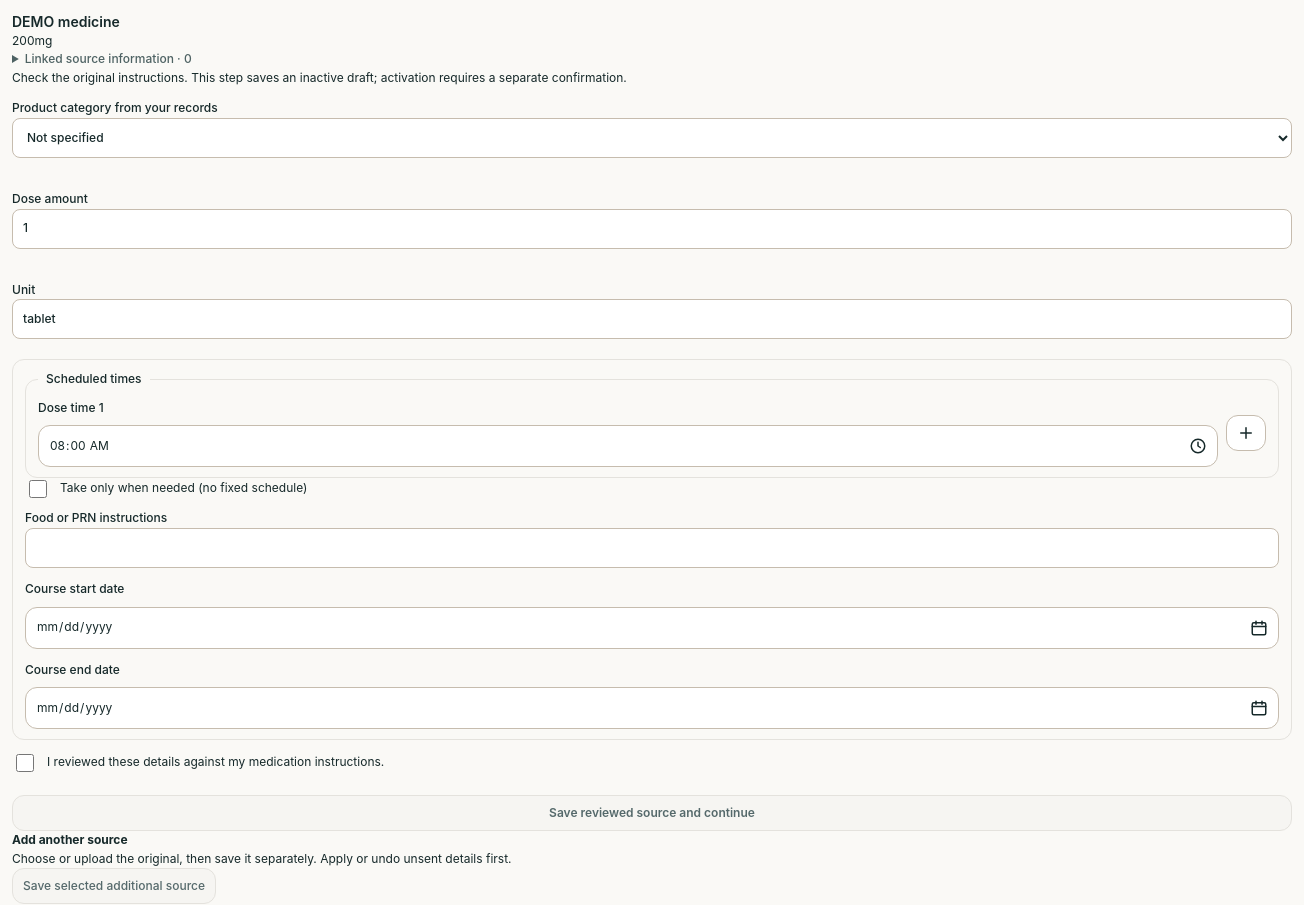
retains unsent form inputs when review fails and exposes retry with no activation
This screenshot has width=1304, height=905.
Expected: the heading "DEMO medicine" is shown, [12,13,120,30]
Replace the text in the number field labelled "Dose amount" with "2" at (652, 229), box [12,209,1292,249]
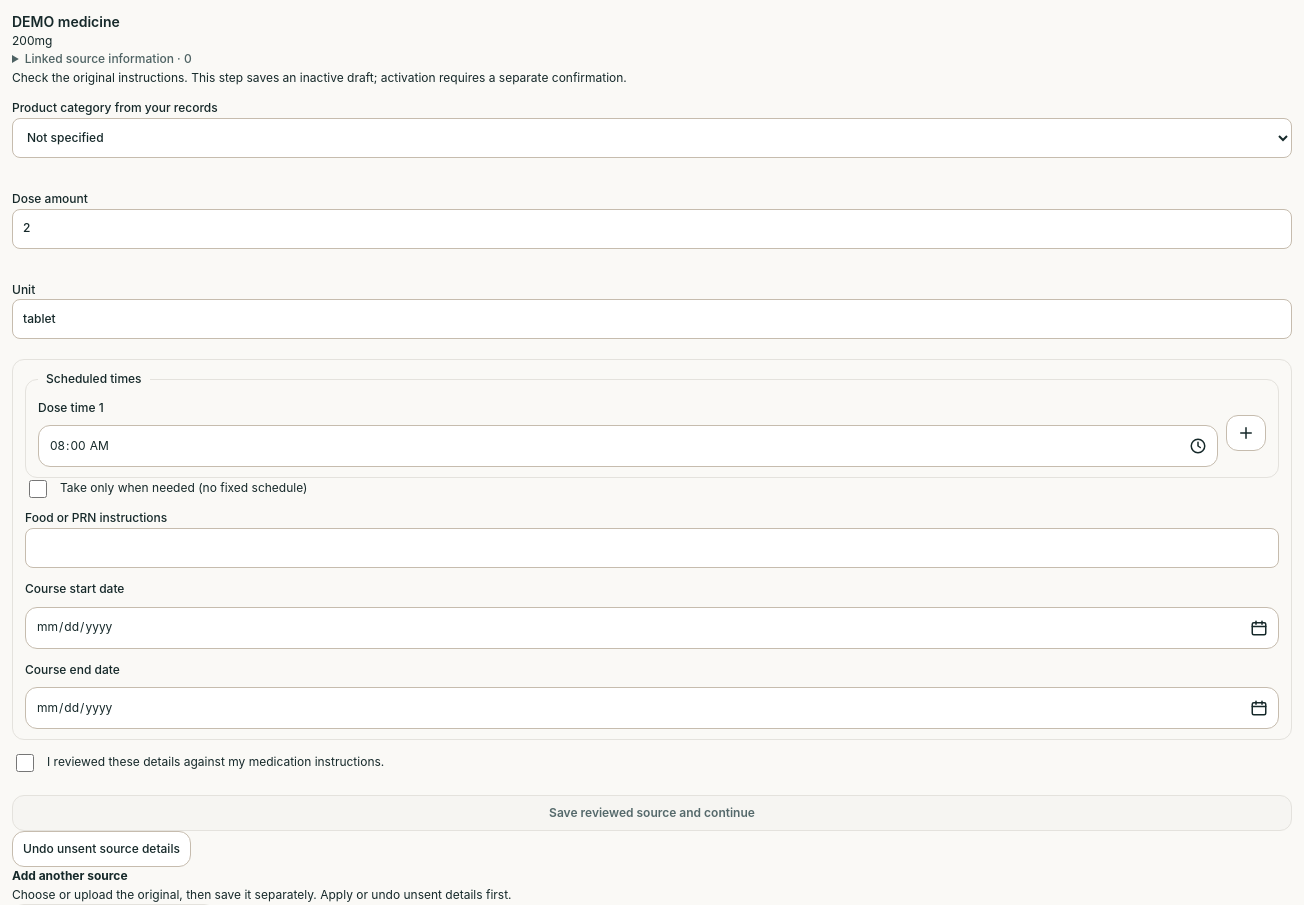
Click the checkbox labelled "I reviewed these details against my medication instructions." at (25, 763), box [16,754,34,772]
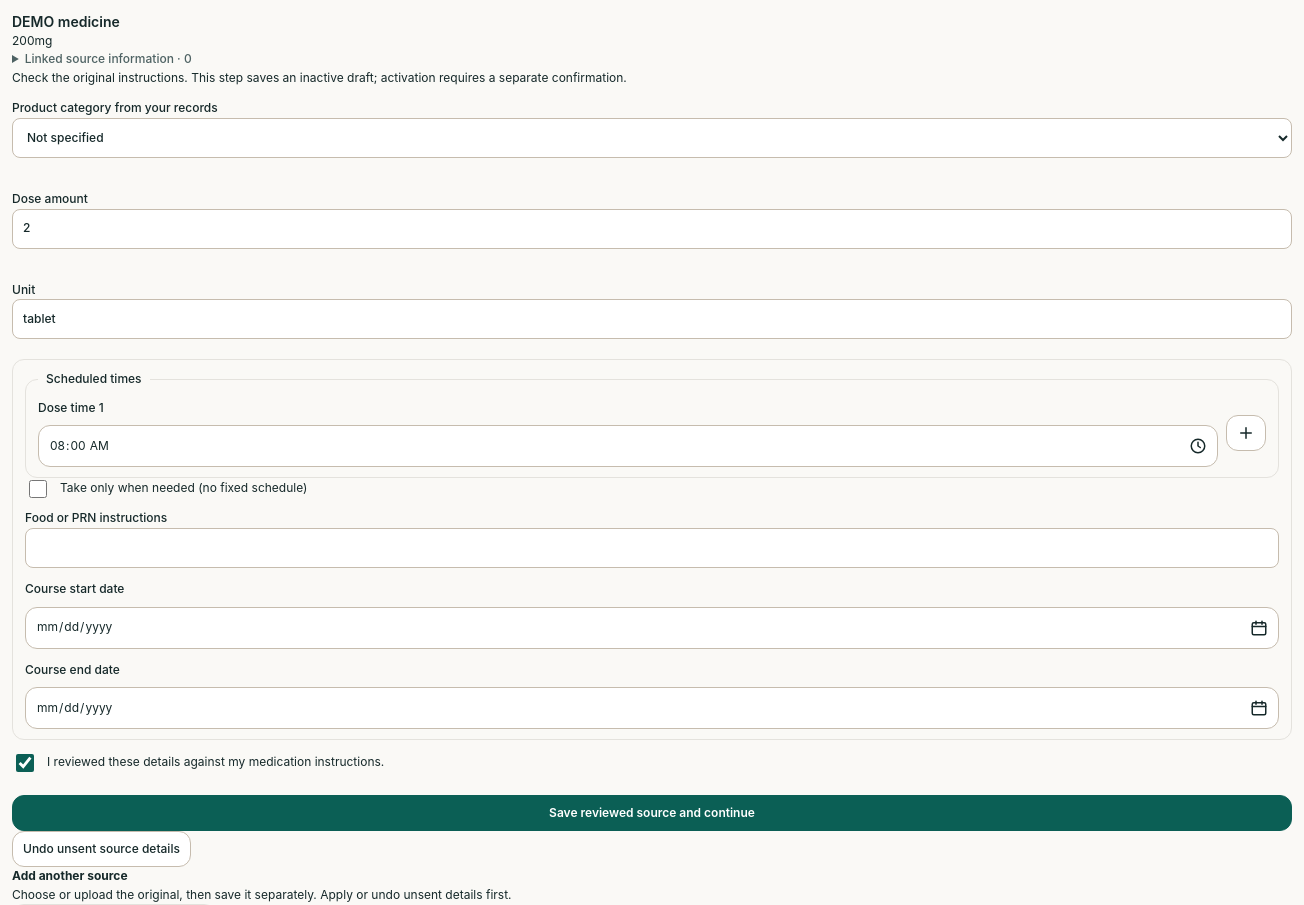
Click the button "Save reviewed source and continue" at (652, 813), box [12,795,1292,831]
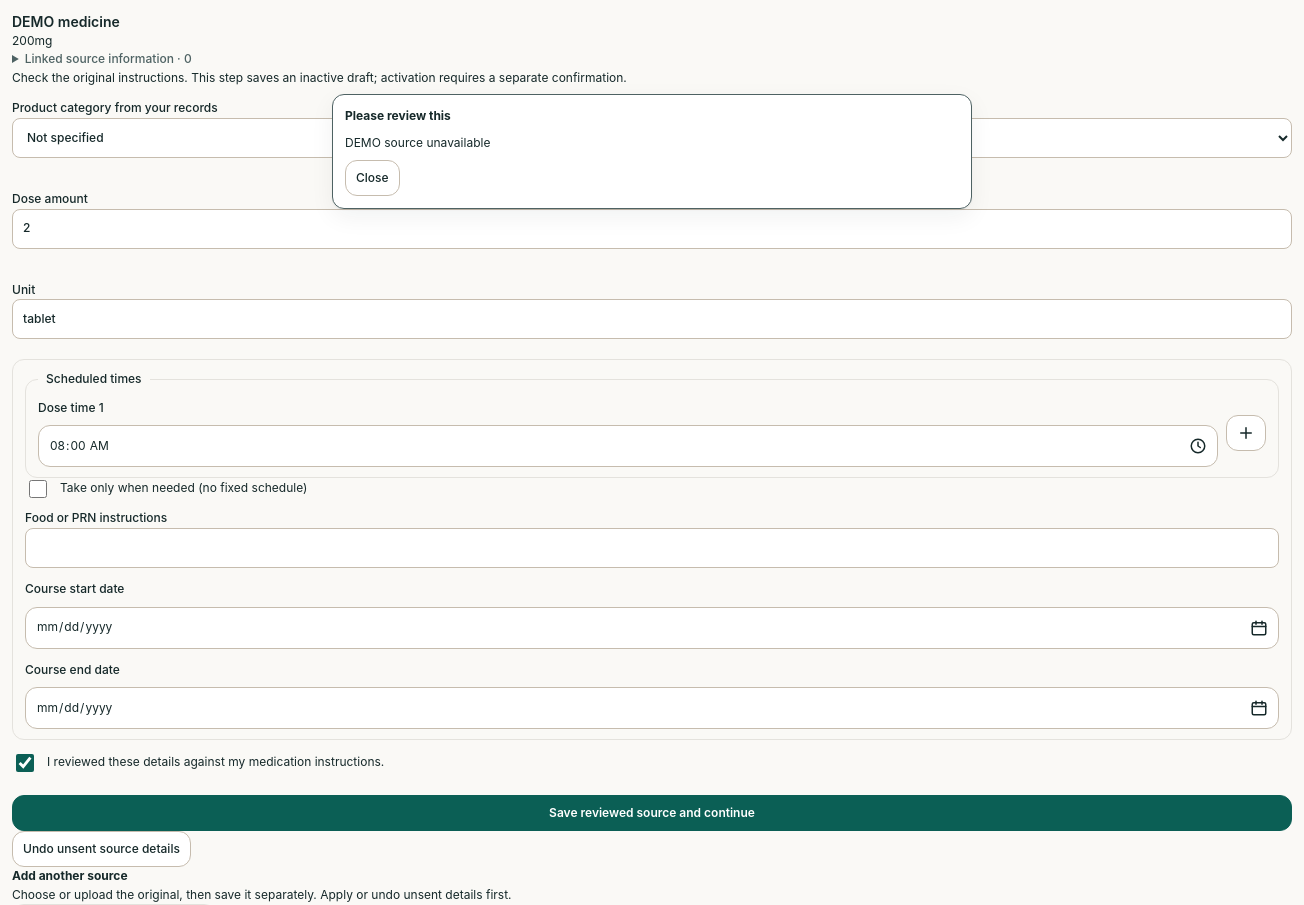
Expected: the button "Save reviewed source and continue" is enabled, [12,795,1292,831]
Expected: the message "Please review this DEMO source unavailable Close" is shown, [332,94,972,209]
